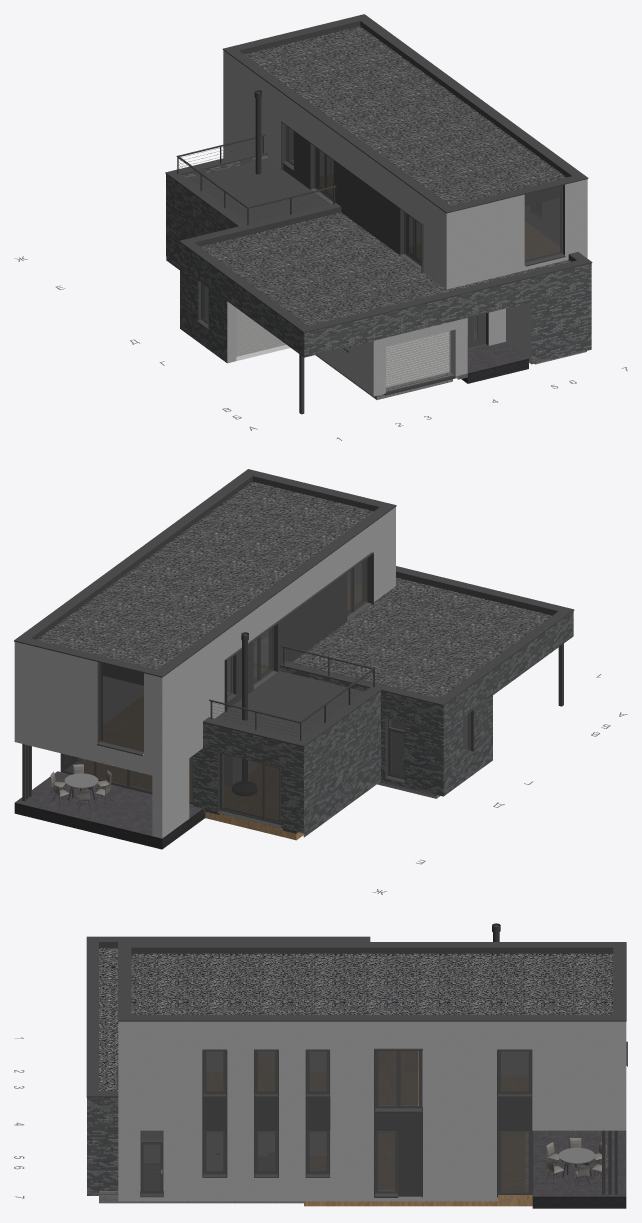
3 views of the same model, one above another, from view 1: azimuth 30°, elevation 25°; view 2: azimuth 150°, elevation 25°; view 3: azimuth 270°, elevation 25° (orthographic). The views are drawn at different scales.
Visible parts, largest first — view 1: Material11, Material4, Material8, Material3, Material17, Material29, Material6, Material39, Material26, Material38, Material28, Material15 (+3 smaller); view 2: Material11, Material4, Material8, Material3, Material29, Material17, Material6, Material15, Material28, Material14, Material26, Material12 (+1 smaller); view 3: Material4, Material11, Material3, Material29, Material6, Material28, Material15, Material8, Material12, Material14, Material9, Material71 (+1 smaller).
Boxes of the visible parts, left/top/right/bottom form: Material11: left=200, top=26, right=570, bottom=325; Material4: left=223, top=50, right=587, bottom=396; Material8: left=166, top=154, right=591, bottom=364; Material3: left=165, top=14, right=592, bottom=414; Material17: left=187, top=158, right=329, bottom=223; Material29: left=203, top=127, right=561, bottom=340; Material6: left=198, top=131, right=400, bottom=328; Material39: left=386, top=331, right=450, bottom=387; Material26: left=176, top=134, right=336, bottom=225; Material38: left=236, top=308, right=285, bottom=356; Material28: left=201, top=126, right=562, bottom=347; Material15: left=467, top=342, right=528, bottom=373; Material11: left=37, top=481, right=551, bottom=698; Material4: left=14, top=507, right=395, bottom=838; Material8: left=193, top=611, right=573, bottom=836; Material3: left=14, top=469, right=574, bottom=833; Material29: left=63, top=559, right=468, bottom=822; Material17: left=215, top=671, right=364, bottom=739; Material6: left=227, top=573, right=473, bottom=782; Material15: left=15, top=771, right=202, bottom=835; Material28: left=60, top=558, right=470, bottom=824; Material14: left=14, top=803, right=205, bottom=849; Material26: left=209, top=645, right=375, bottom=740; Material12: left=143, top=754, right=303, bottom=840; Material4: left=118, top=1021, right=626, bottom=1201; Material11: left=99, top=948, right=613, bottom=1090; Material3: left=86, top=936, right=627, bottom=1197; Material29: left=141, top=1051, right=528, bottom=1191; Material6: left=203, top=1096, right=531, bottom=1196; Material28: left=140, top=1050, right=533, bottom=1194; Material15: left=532, top=1130, right=626, bottom=1196; Material8: left=87, top=1097, right=118, bottom=1195; Material12: left=304, top=1051, right=532, bottom=1206; Material14: left=532, top=1196, right=626, bottom=1208; Material9: left=99, top=1191, right=303, bottom=1203; Material71: left=546, top=1138, right=608, bottom=1177.
Bounding box in the file's own units: 17.73 × 8.14 × 23.49.
Materials: 37 (11 with a texture image).
